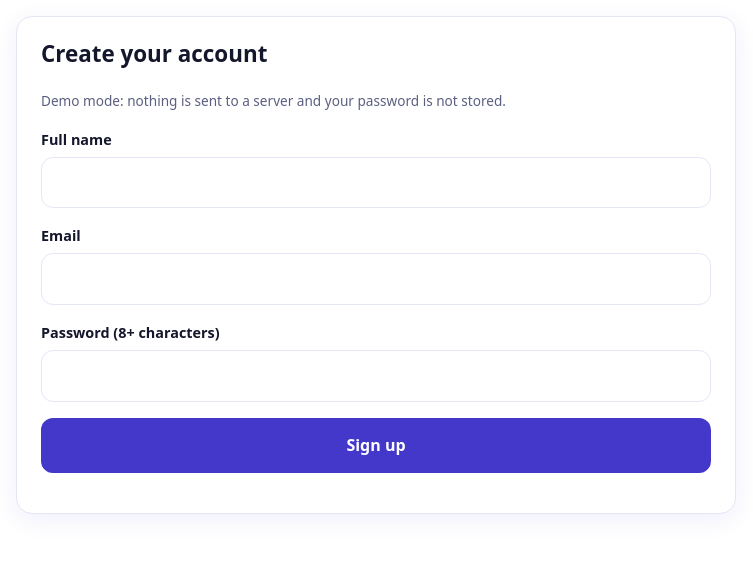
Test case: Signup form › shows "Signup successful" with valid input
Type "Ali Khan" into the field labelled "Full name" at {"x": 376, "y": 182}, box [41,157,711,208]
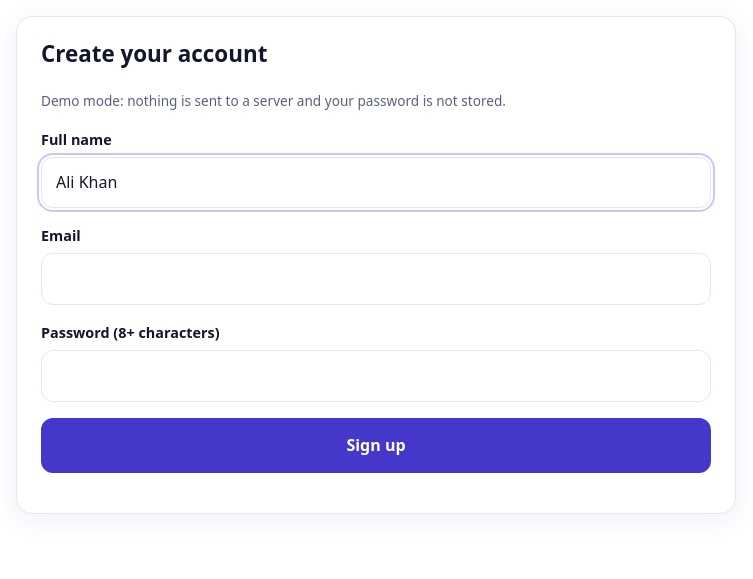
Type "ali@example.com" into the field labelled "Email" at {"x": 376, "y": 279}, box [41,253,711,305]
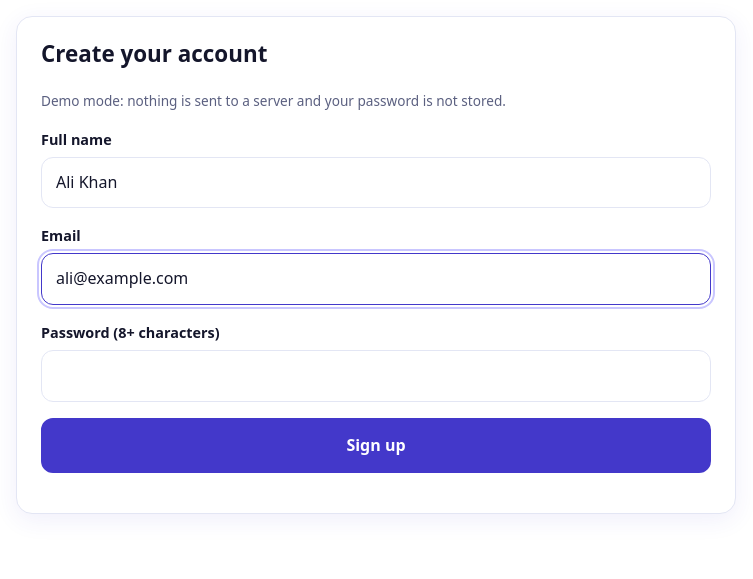
Type "password123" into the password field labelled "Password (8+ characters)" at {"x": 376, "y": 376}, box [41,350,711,402]
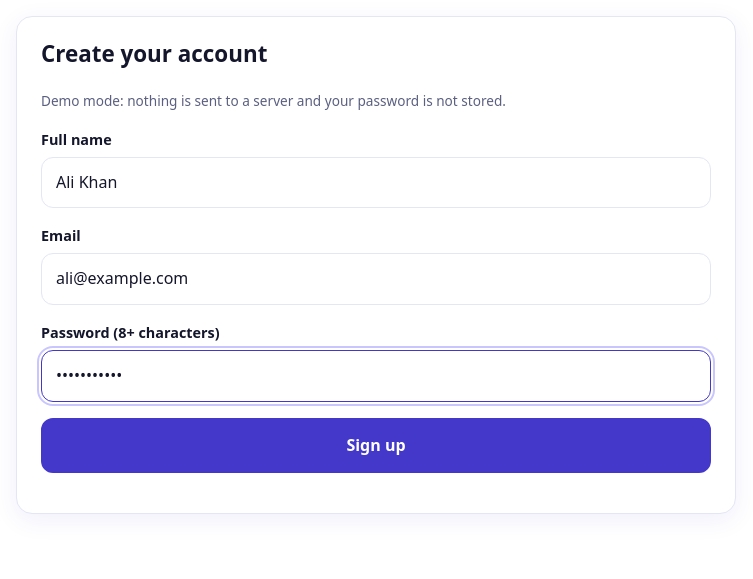
Click the button "Sign up" at {"x": 376, "y": 445}, box [41,418,711,473]
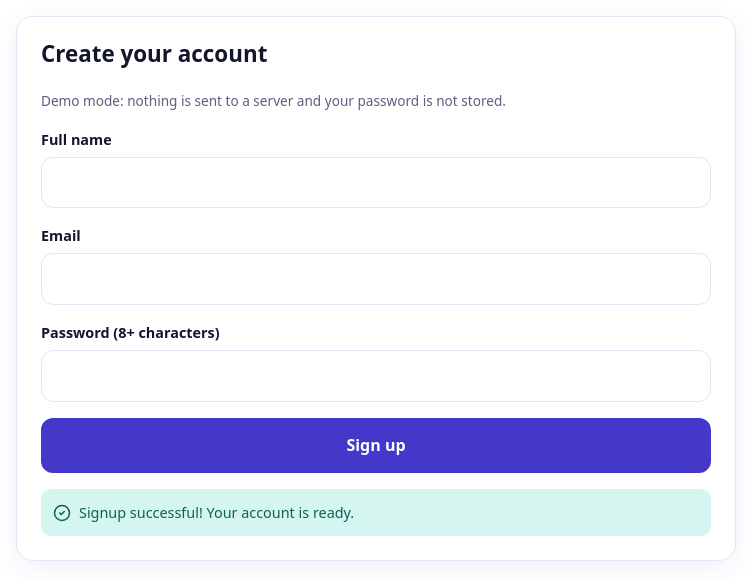
Check: the text "Signup successful! Your account is ready." is shown, box [41,489,711,536]
